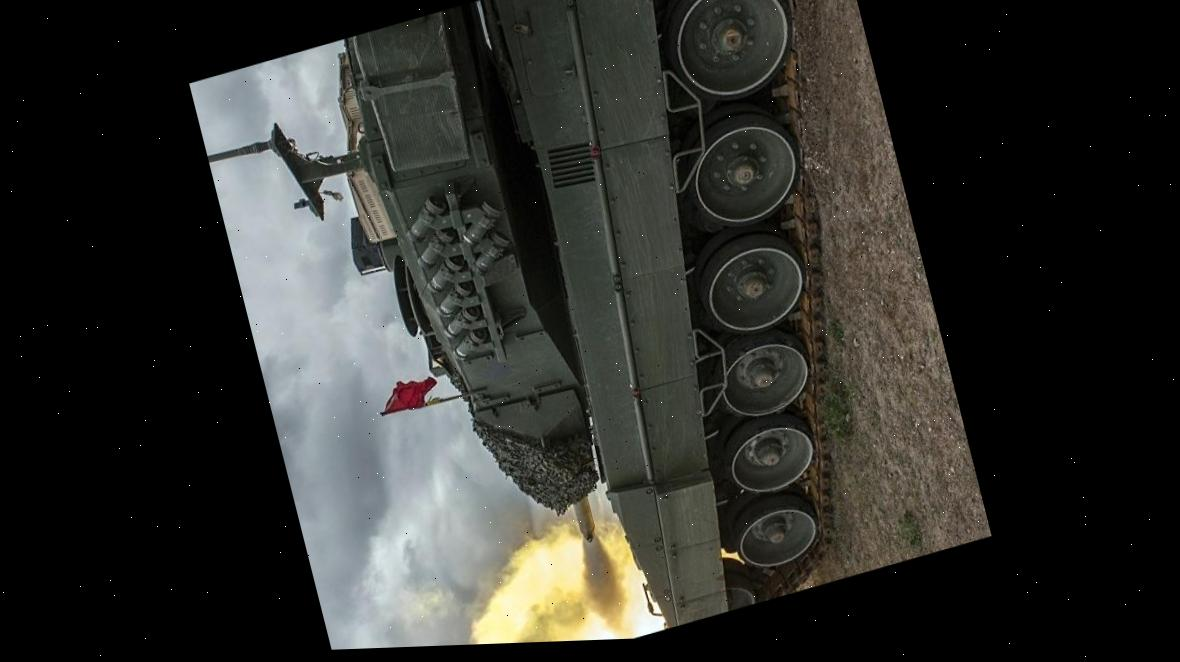tank: (189, 0, 972, 655)
